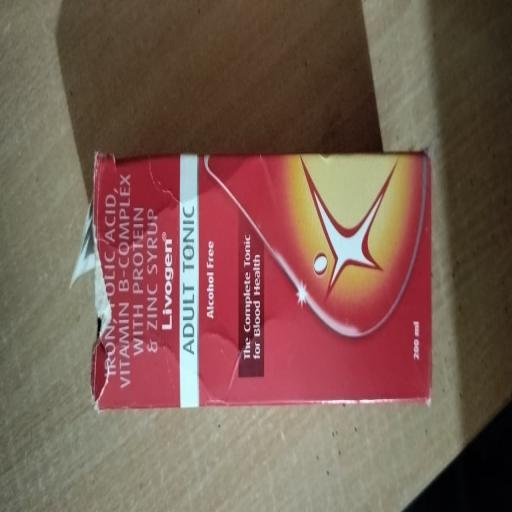Livogen: (46, 112, 462, 431)
